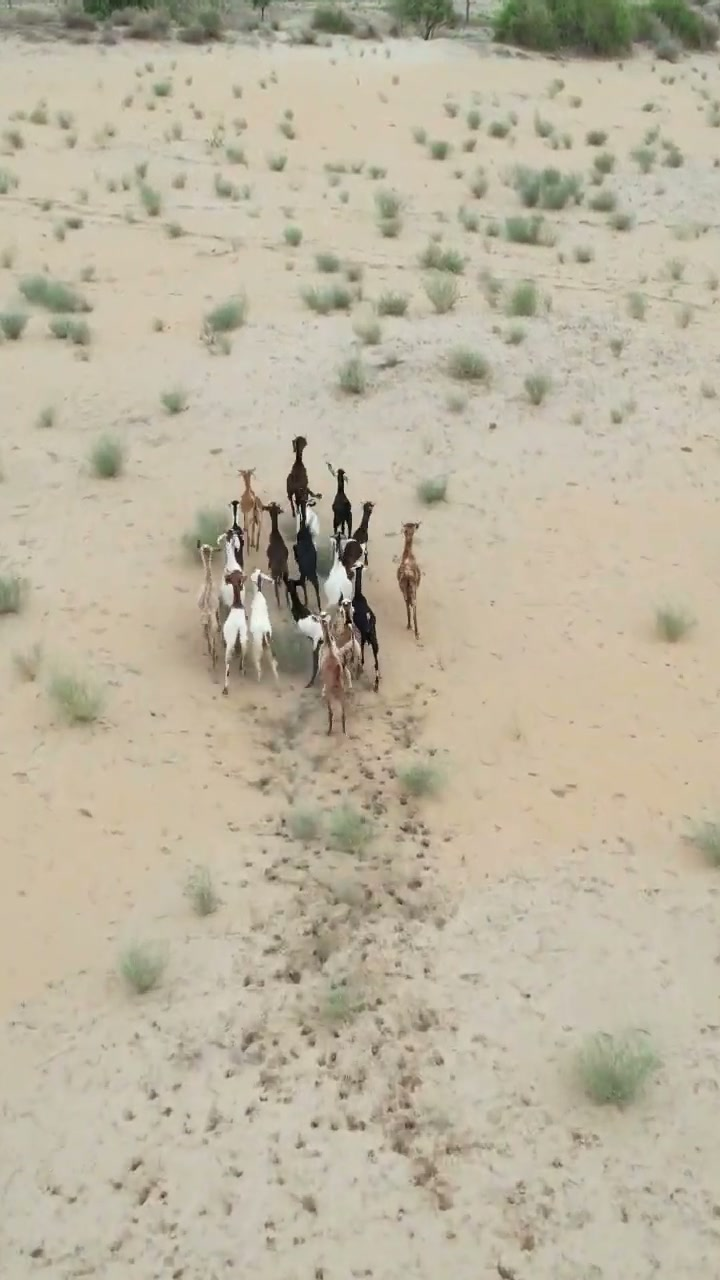animal_foot_print: (73, 680, 719, 1153)
